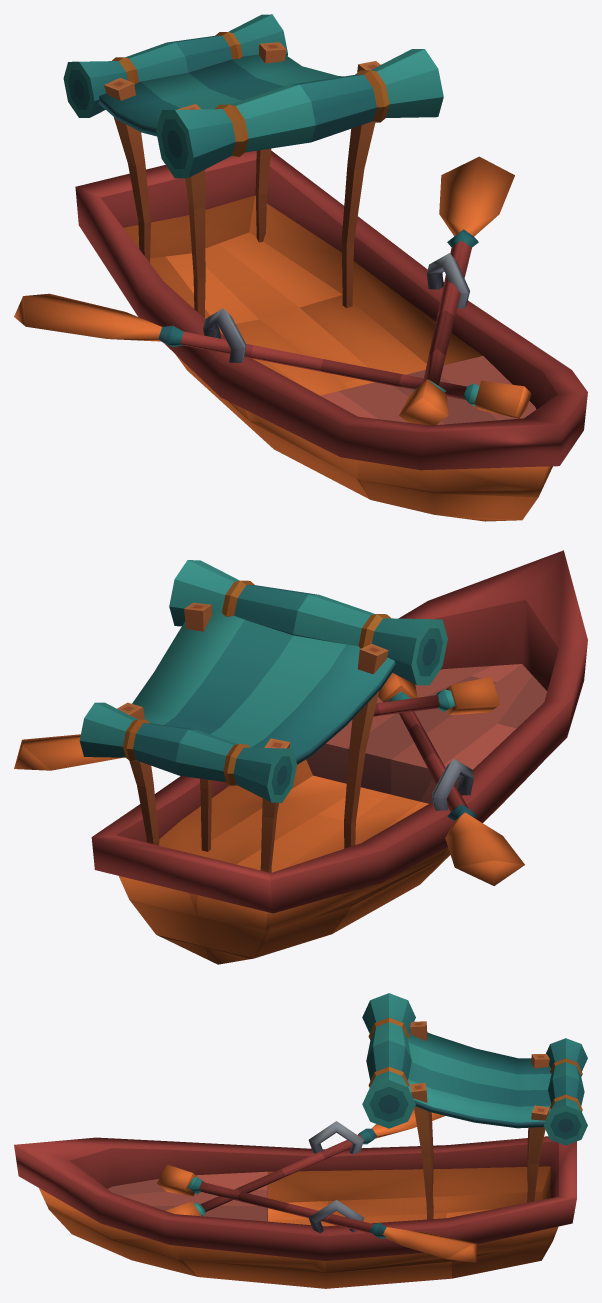
Rendered from boat2.glb.
3 views of the same model, one above another, from view 1: azimuth 30°, elevation 25°; view 2: azimuth 150°, elevation 25°; view 3: azimuth 270°, elevation 25° (orthographic). The views are drawn at different scales.
Visible parts, largest first — view 1: boat2; view 2: boat2; view 3: boat2.
Boxes of the visible parts, box(x1,y1,x2,y2) form: boat2: box(14, 14, 587, 521); boat2: box(14, 550, 587, 964); boat2: box(14, 993, 587, 1288).
Bounding box in the file's own units: 1.93 × 1.24 × 2.67.
1 material, 1 textured.
